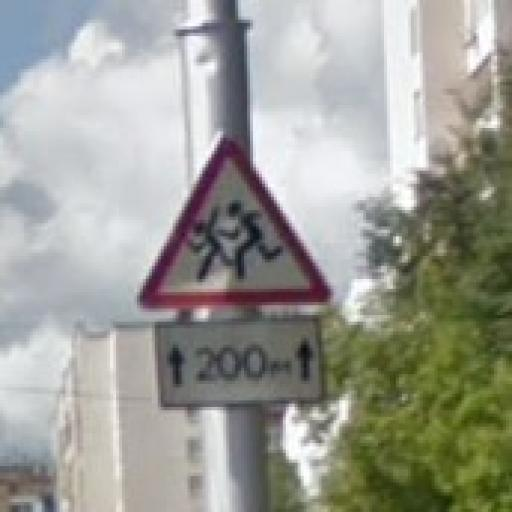traffic_sign: (138, 136, 334, 306)
